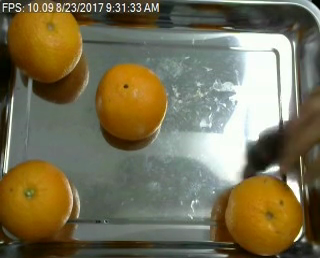Orange: (224, 172, 306, 253), (8, 2, 84, 82), (1, 160, 74, 240), (96, 62, 167, 141)
